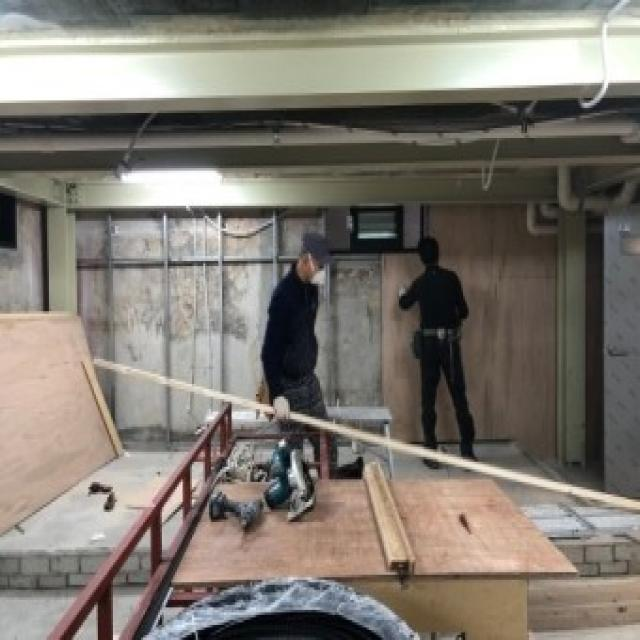board: (172, 477, 580, 586), (0, 313, 124, 535)
wood: (92, 356, 640, 512)
